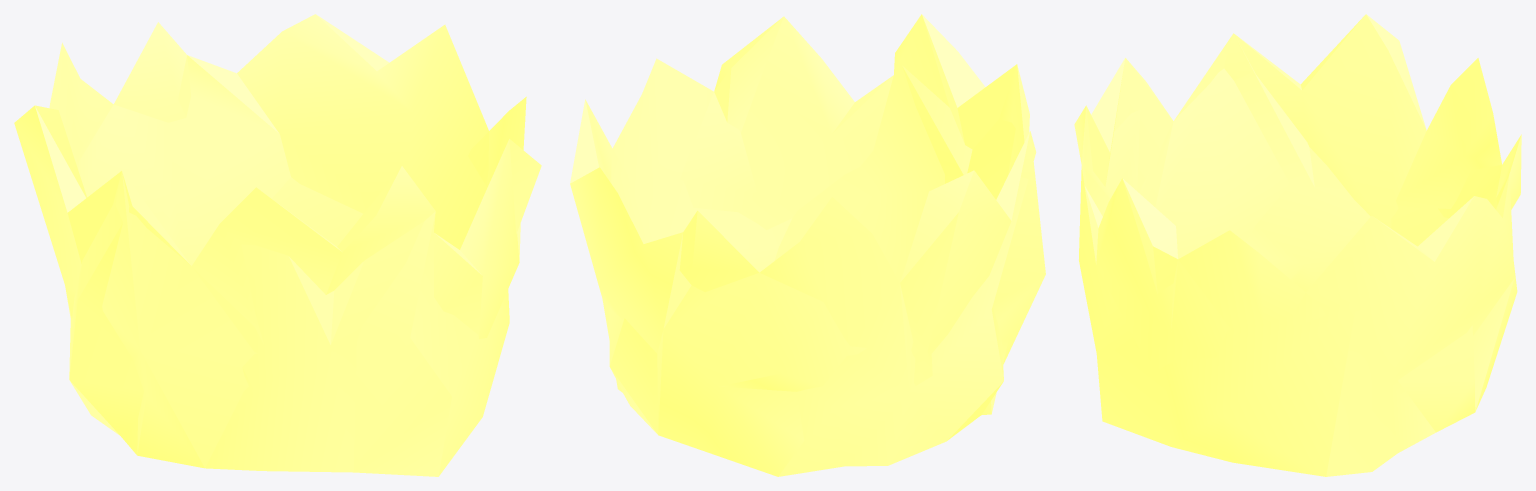
Rendered from crown.glb.
The picture shows the model from 3 angles, left to right: view 1: azimuth 30°, elevation 25°; view 2: azimuth 150°, elevation 25°; view 3: azimuth 270°, elevation 25°; orthographic projection. The views are drawn at different scales.
Parts seen in each view (by area): view 1: Crown; view 2: Crown; view 3: Crown.
Part boxes in pixels (x1=…): Crown: x1=14, y1=14, x2=541, y2=476; Crown: x1=570, y1=14, x2=1045, y2=476; Crown: x1=1074, y1=14, x2=1521, y2=476.
Bounding box in the file's own units: 3.1 × 2.3 × 3.14.
